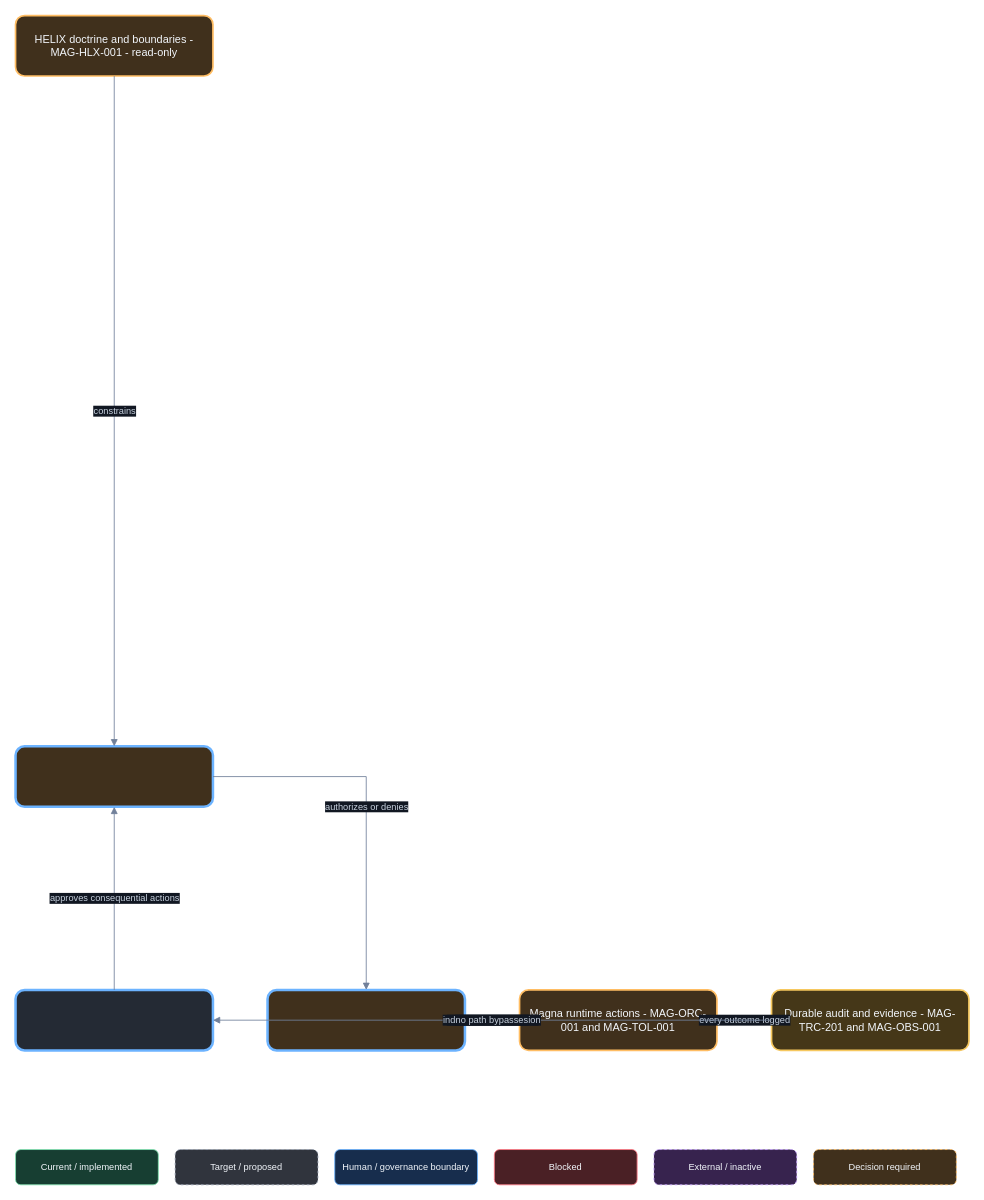
Some shapes in this 984 by 1200 pixel diagram are drawn without their labels. Each missing label, with the centre of its shape:
Governance and approval engine - MAG-GOV-001 - default-deny - fail-closed: [114,776]
Policy and capability control - MAG-GOV-001: [366,1019]
Vinay - final human authority: [114,1019]
